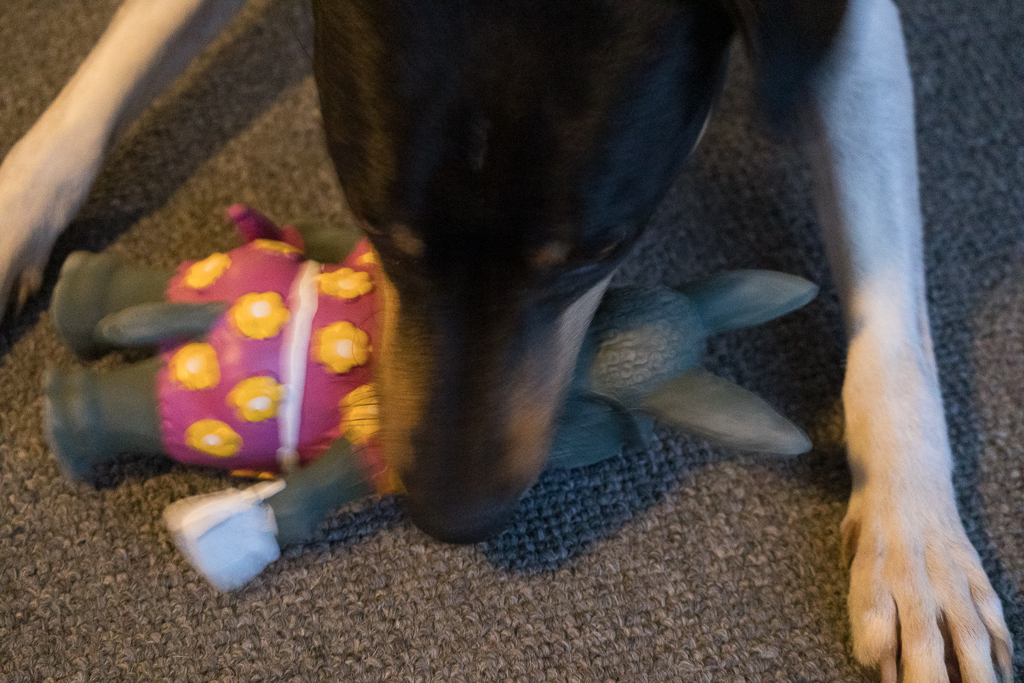Dog: (0, 0, 1024, 683)
Humanoid: (22, 201, 828, 604)
